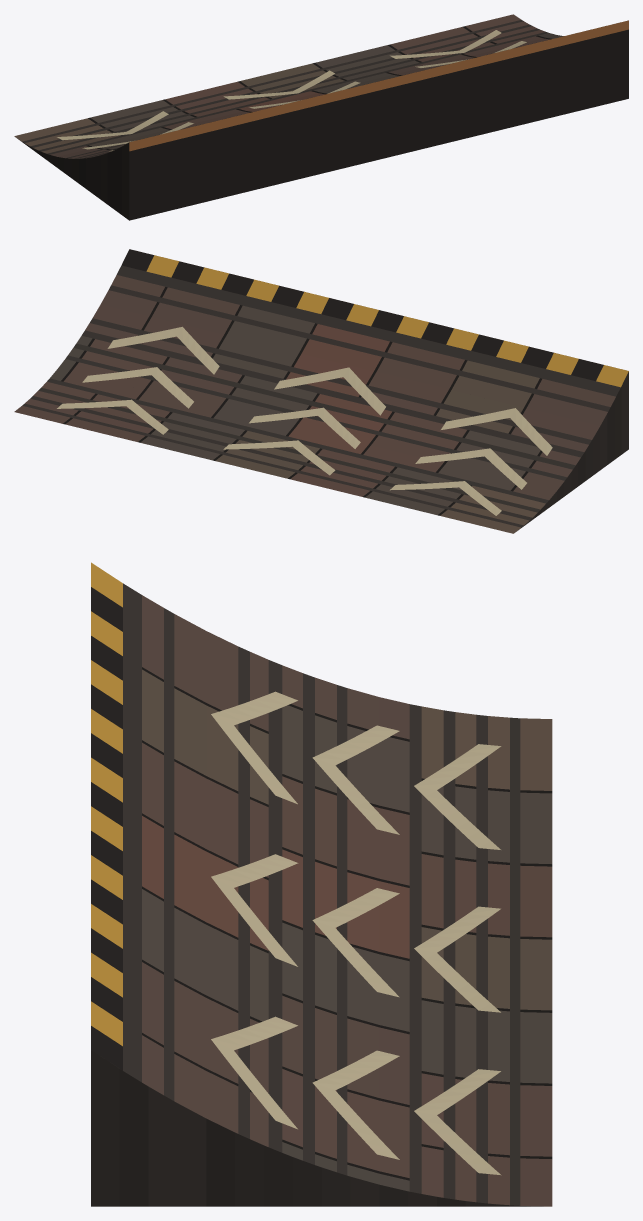
The model's file is plate_kicker_8x3x20.glb.
The picture shows the model from 3 angles, top to bottom: view 1: azimuth 30°, elevation 25°; view 2: azimuth 150°, elevation 25°; view 3: azimuth 270°, elevation 25°; orthographic projection. The views are drawn at different scales.
Visible parts, largest first — view 1: plate_kicker_8x3x20, plate_kicker_8x3x20-col; view 2: plate_kicker_8x3x20, plate_kicker_8x3x20-col; view 3: plate_kicker_8x3x20, plate_kicker_8x3x20-col.
Boxes of the visible parts, x1,y1,x2,y2 form: plate_kicker_8x3x20: [14, 14, 628, 220]; plate_kicker_8x3x20-col: [22, 20, 548, 158]; plate_kicker_8x3x20: [14, 249, 628, 533]; plate_kicker_8x3x20-col: [22, 265, 623, 527]; plate_kicker_8x3x20: [91, 562, 552, 1206]; plate_kicker_8x3x20-col: [123, 583, 543, 1206].
Bounding box in the file's own units: 20 × 3 × 8.
